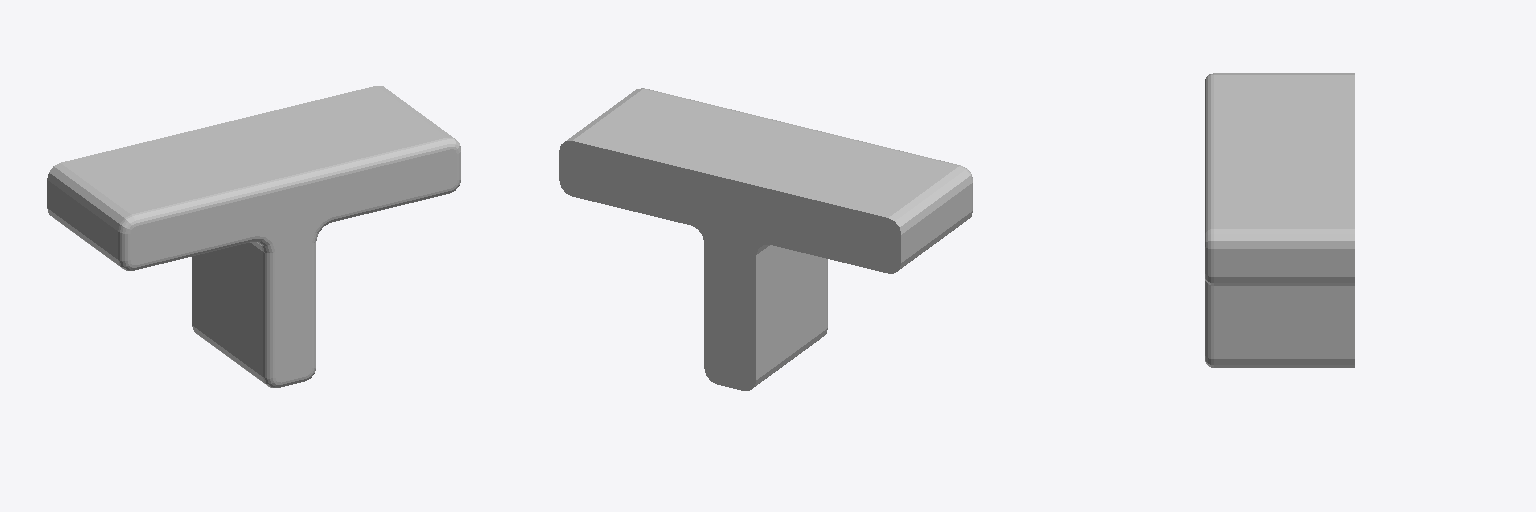
The model's file is 2_T_Wall.obj.
3 renders of one model, left to right at view 1: azimuth 30°, elevation 25°; view 2: azimuth 150°, elevation 25°; view 3: azimuth 270°, elevation 25°, orthographic.
Parts seen in each view (by area): view 1: T_Wall_Plane.002; view 2: T_Wall_Plane.002; view 3: T_Wall_Plane.002.
Part boxes in pixels (x1,y1,x2,y2): T_Wall_Plane.002: (47,86,460,387); T_Wall_Plane.002: (559,88,972,390); T_Wall_Plane.002: (1205,73,1354,367).
Bounding box in the file's own units: 13.09 × 7.62 × 5.